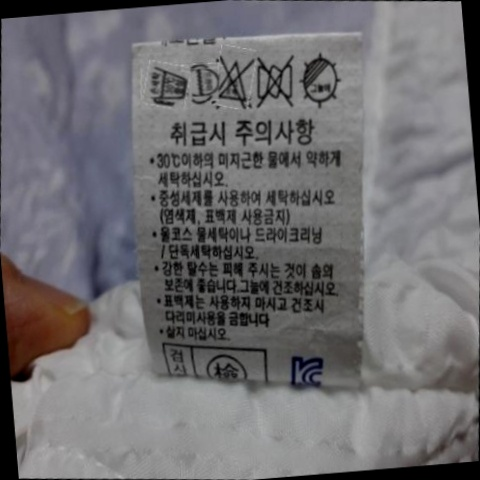DN_wring: (254, 54, 301, 107)
dry_clean: (187, 63, 219, 100)
hand_wash: (144, 60, 192, 105)
non_chlorine_bleach: (215, 54, 254, 106)
shade_dry: (297, 51, 346, 111)
